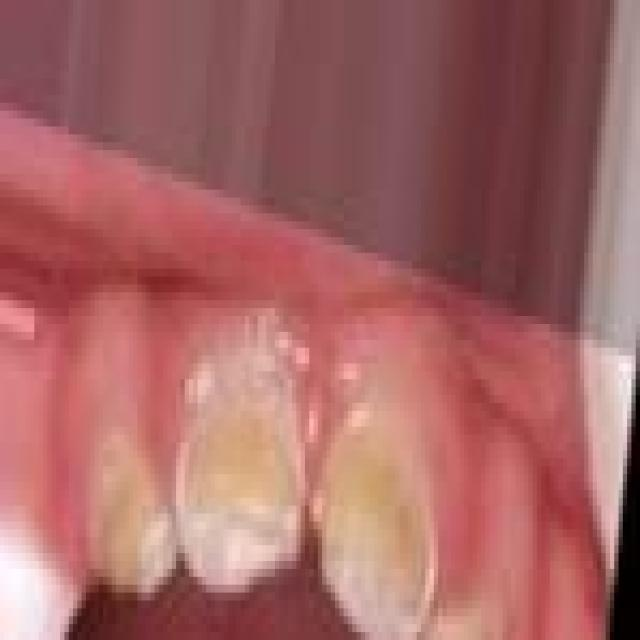caries: (167, 351, 305, 596), (312, 405, 439, 640), (86, 440, 180, 599)
